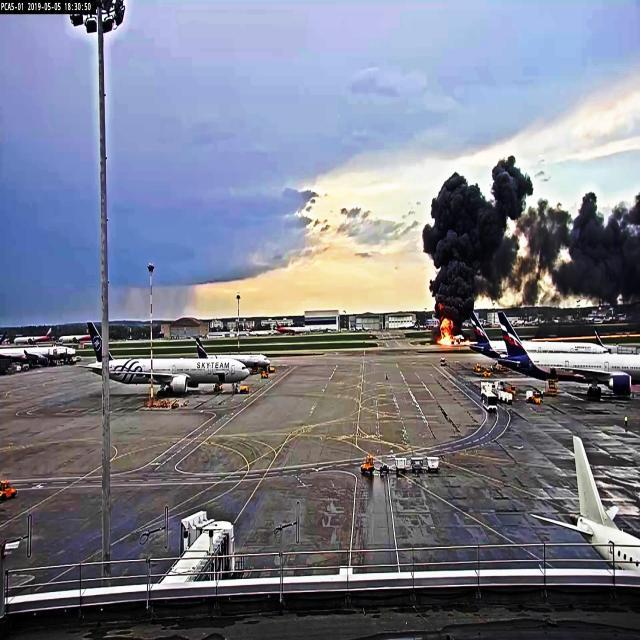Fire: (436, 322, 456, 348)
Smoke: (425, 155, 640, 315)
